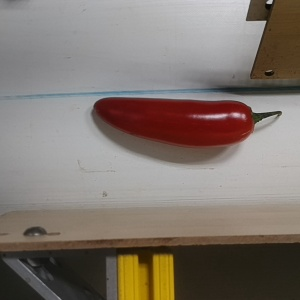Cut Point: (235, 100, 264, 141)
